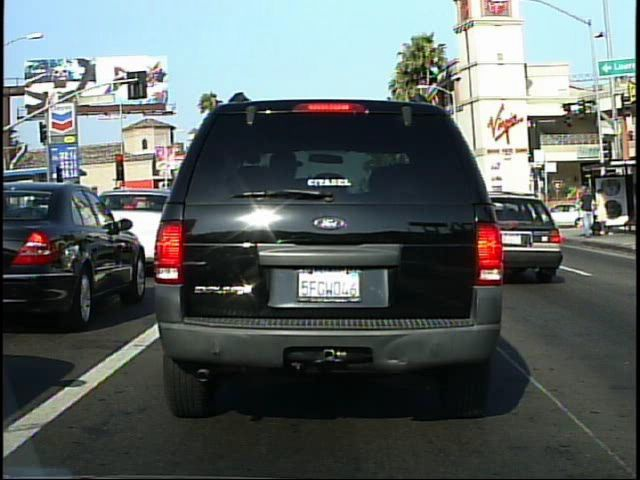person: (577, 186, 597, 238), (595, 185, 613, 237)
